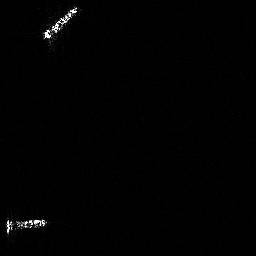ship: (41, 4, 81, 42), (4, 215, 49, 238)
